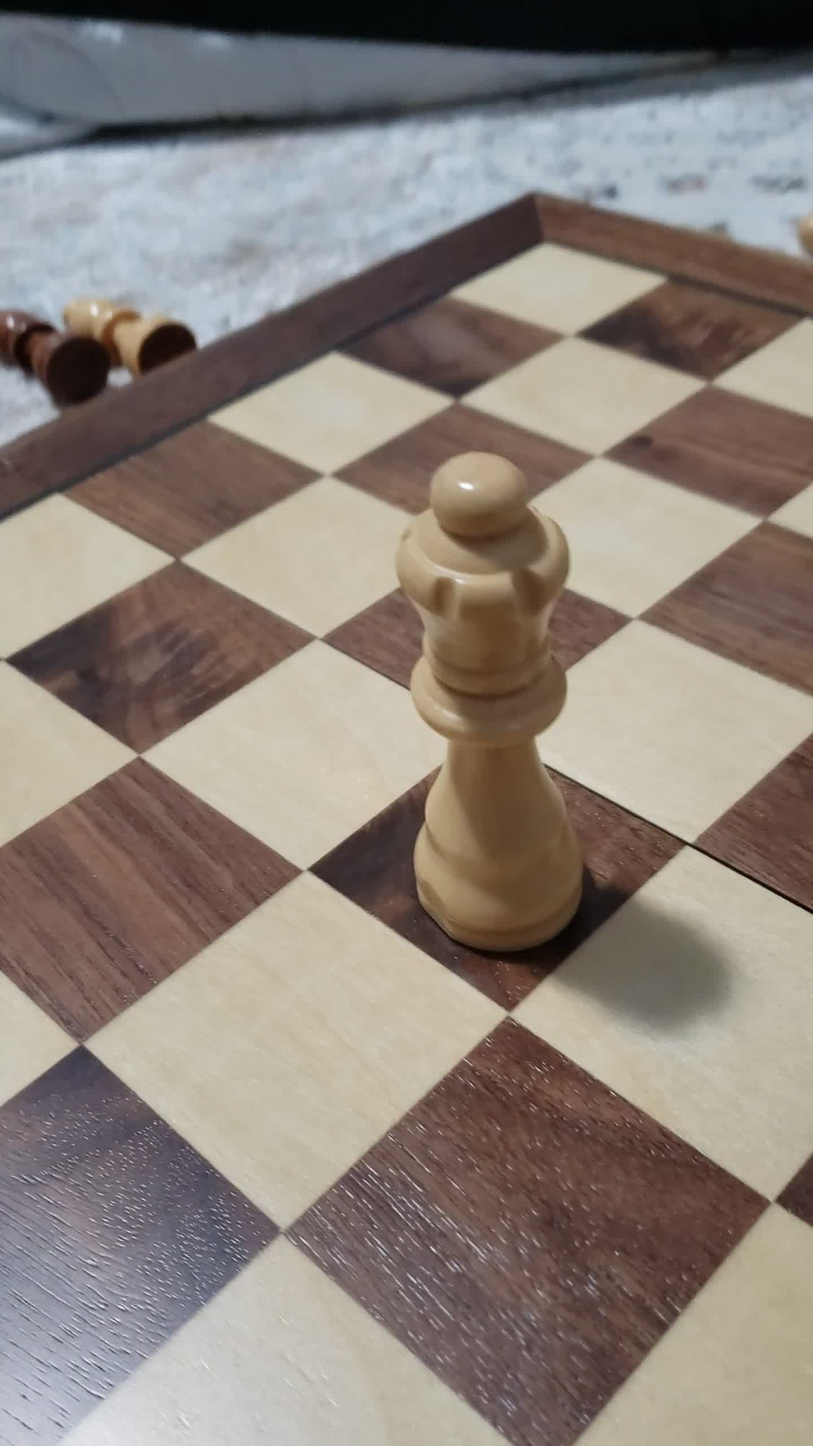white-queen: (356, 441, 618, 974)
